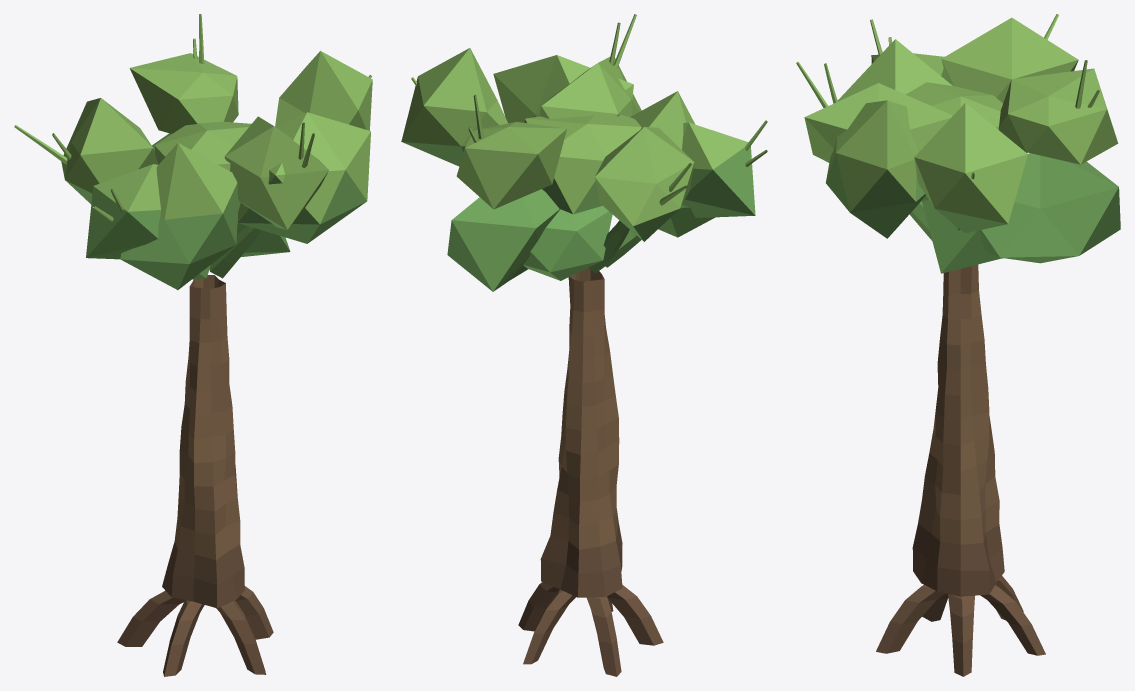
Rendered from tree_oak_small.glb.
3 renders of one model, left to right at view 1: azimuth 30°, elevation 25°; view 2: azimuth 150°, elevation 25°; view 3: azimuth 270°, elevation 25°, orthographic. The views are drawn at different scales.
Visible parts, largest first — view 1: Tree_Oak_Small_Top, Tree_Oak_Small_Base; view 2: Tree_Oak_Small_Top, Tree_Oak_Small_Base; view 3: Tree_Oak_Small_Top, Tree_Oak_Small_Base.
Part boxes in pixels (<box>): Tree_Oak_Small_Top: <box>14,14,372,289</box>; Tree_Oak_Small_Base: <box>117,275,273,676</box>; Tree_Oak_Small_Top: <box>401,14,767,291</box>; Tree_Oak_Small_Base: <box>518,268,663,676</box>; Tree_Oak_Small_Top: <box>796,14,1120,273</box>; Tree_Oak_Small_Base: <box>876,264,1045,676</box>.
Size of the model in its own units: 5.45 by 9.45 by 4.57.
